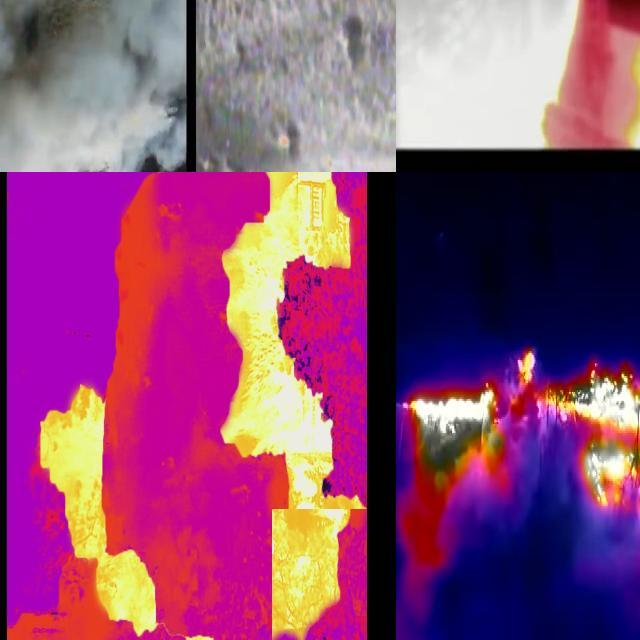fire: (173, 173, 358, 544), (7, 368, 237, 640), (515, 343, 640, 557), (404, 390, 511, 551), (542, 1, 640, 150), (272, 509, 367, 640)
